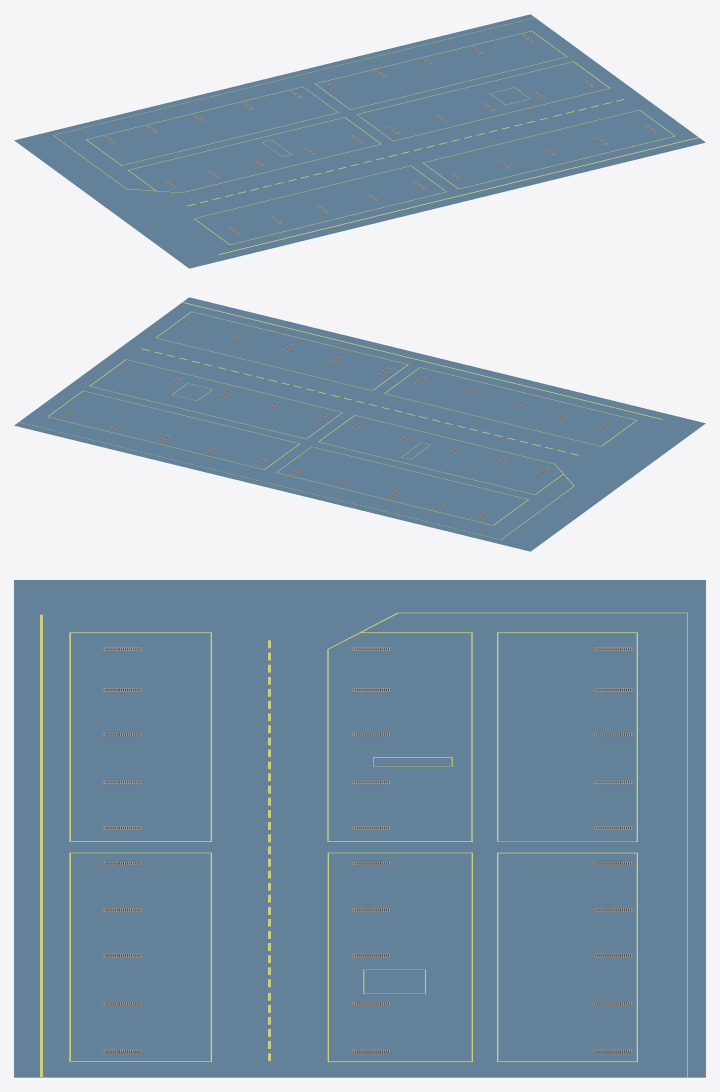
File: z_dimian.fbx
3 renders of one model, top to bottom at view 1: azimuth 30°, elevation 25°; view 2: azimuth 150°, elevation 25°; view 3: azimuth 270°, elevation 25°, orthographic. The views are drawn at different scales.
Parts seen in each view (by area): view 1: dimian_01; view 2: dimian_01; view 3: dimian_01.
Boxes of the visible parts, <box> form: dimian_01: <box>14,14,705,268</box>; dimian_01: <box>14,297,705,551</box>; dimian_01: <box>14,580,705,1077</box>.
Bounding box in the file's own units: 6300 × 9.44 × 3703.
